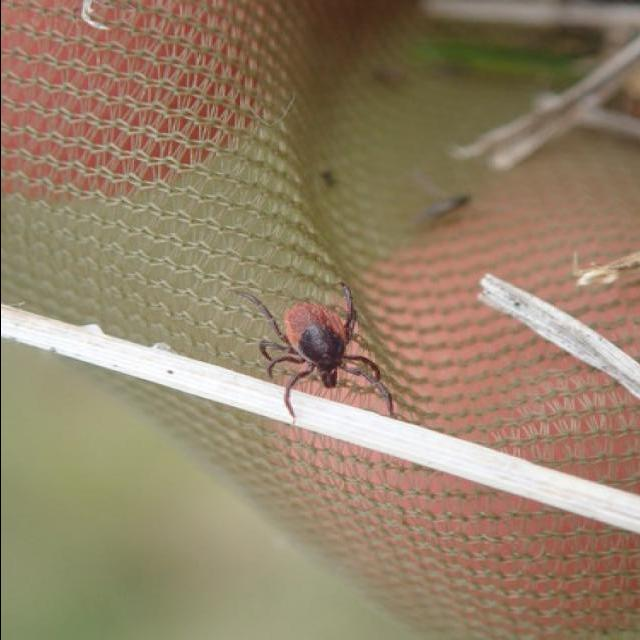Ixodes Ricinus-F: (232, 282, 394, 419), (283, 370, 309, 420)
